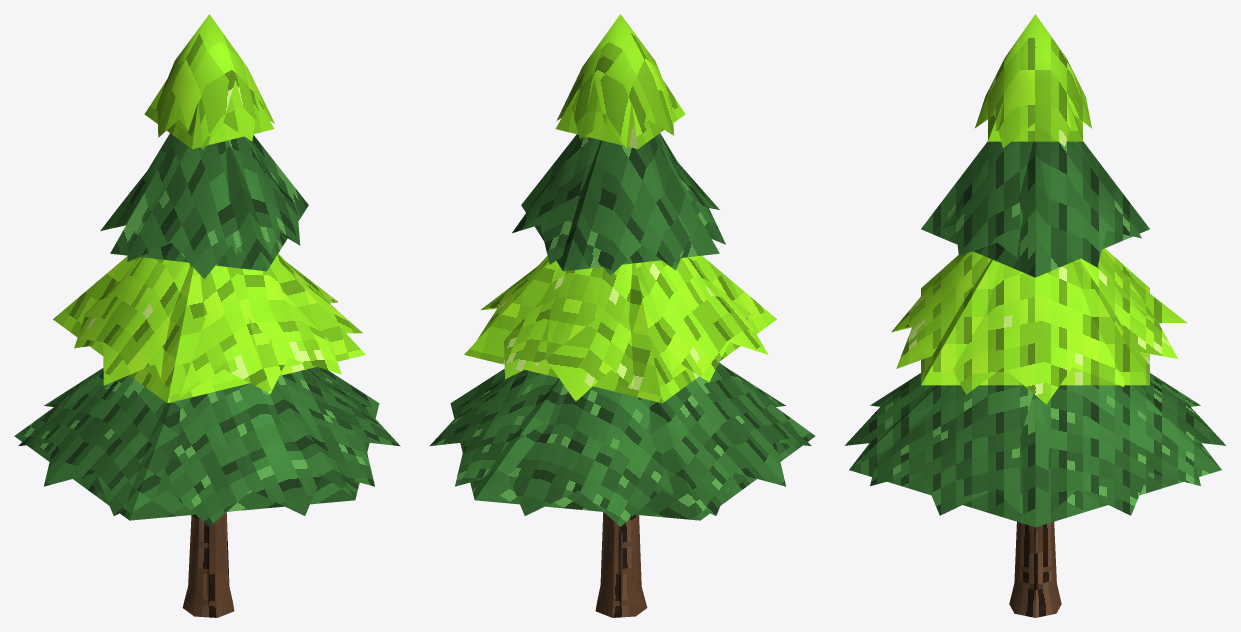
Rendered from p_conifer.glb.
3 renders of one model, left to right at view 1: azimuth 30°, elevation 25°; view 2: azimuth 150°, elevation 25°; view 3: azimuth 270°, elevation 25°, orthographic.
Parts seen in each view (by area): view 1: cf_tree, cf_far; view 2: cf_tree, cf_far; view 3: cf_tree, cf_far.
Part boxes in pixels (<box>): cf_tree: <box>18,14,400,617</box>; cf_far: <box>14,80,379,612</box>; cf_tree: <box>429,14,811,617</box>; cf_far: <box>450,79,815,612</box>; cf_tree: <box>844,14,1226,617</box>; cf_far: <box>849,93,1221,600</box>.
Bounding box in the file's own units: 4.89 × 8.26 × 4.83.
Materials: 1 (1 with a texture image).
